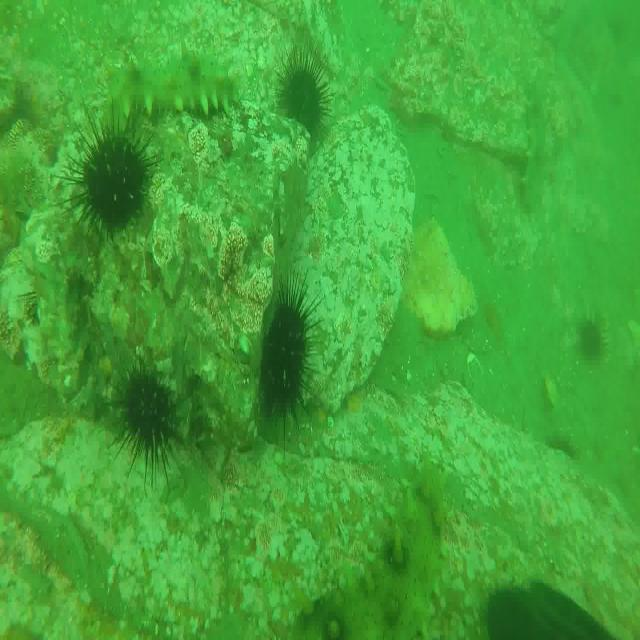echinus: (74, 138, 148, 235), (256, 294, 306, 424), (117, 365, 179, 466), (279, 54, 322, 130), (580, 322, 604, 373)
holothurian: (107, 45, 242, 123)
